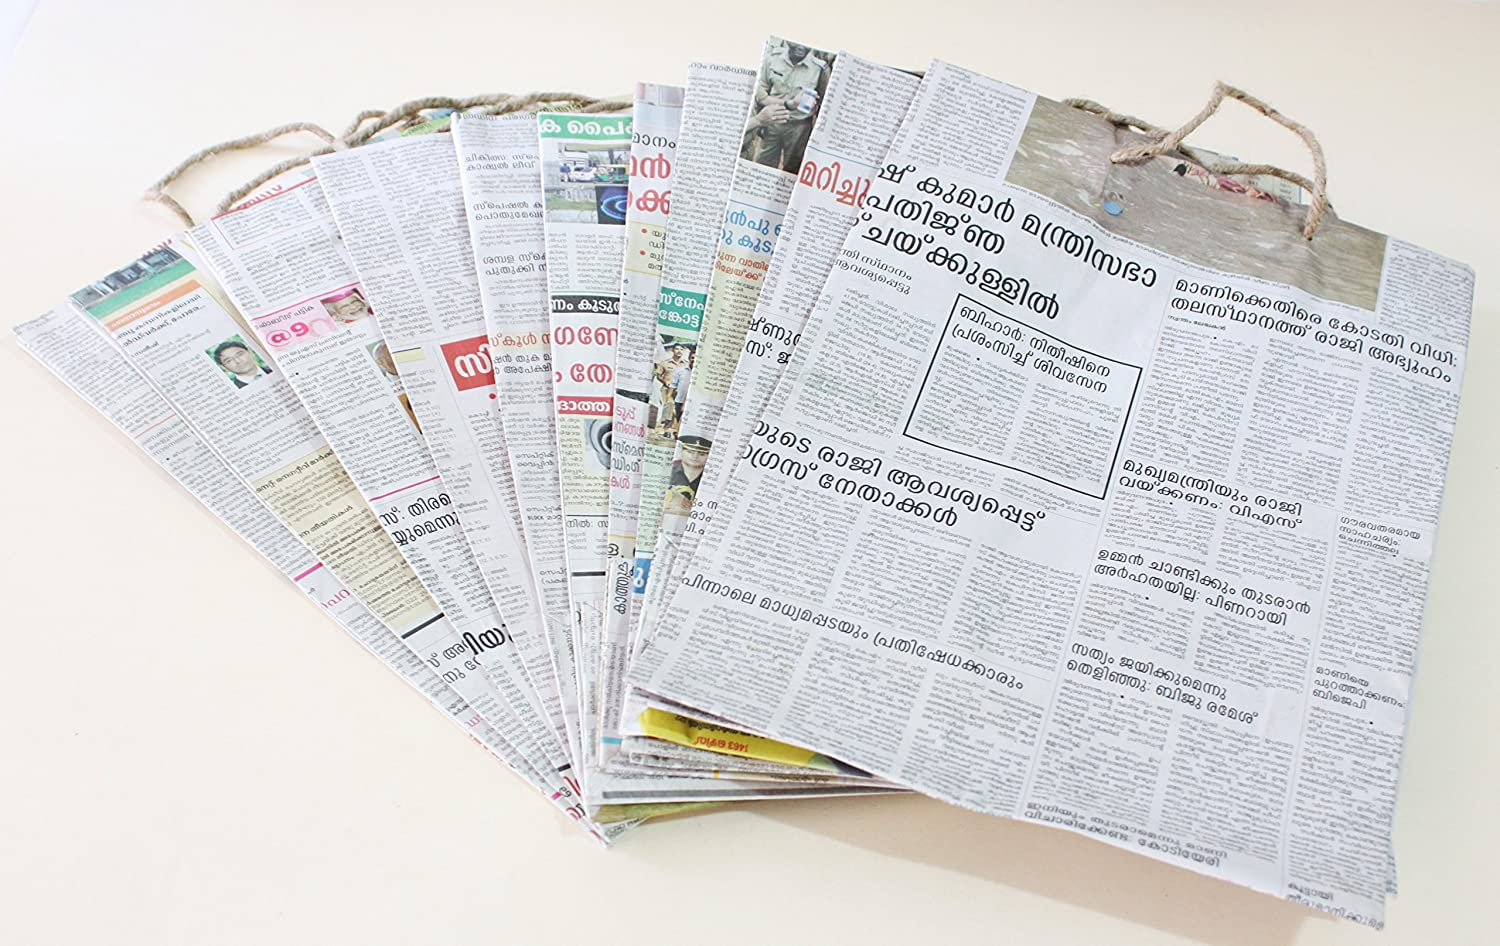news_paper: (601, 13, 1497, 946), (613, 24, 1477, 935), (619, 39, 1347, 865), (58, 158, 590, 946), (166, 131, 634, 901), (9, 228, 542, 901), (300, 73, 668, 894), (432, 60, 735, 896), (520, 92, 712, 869)
